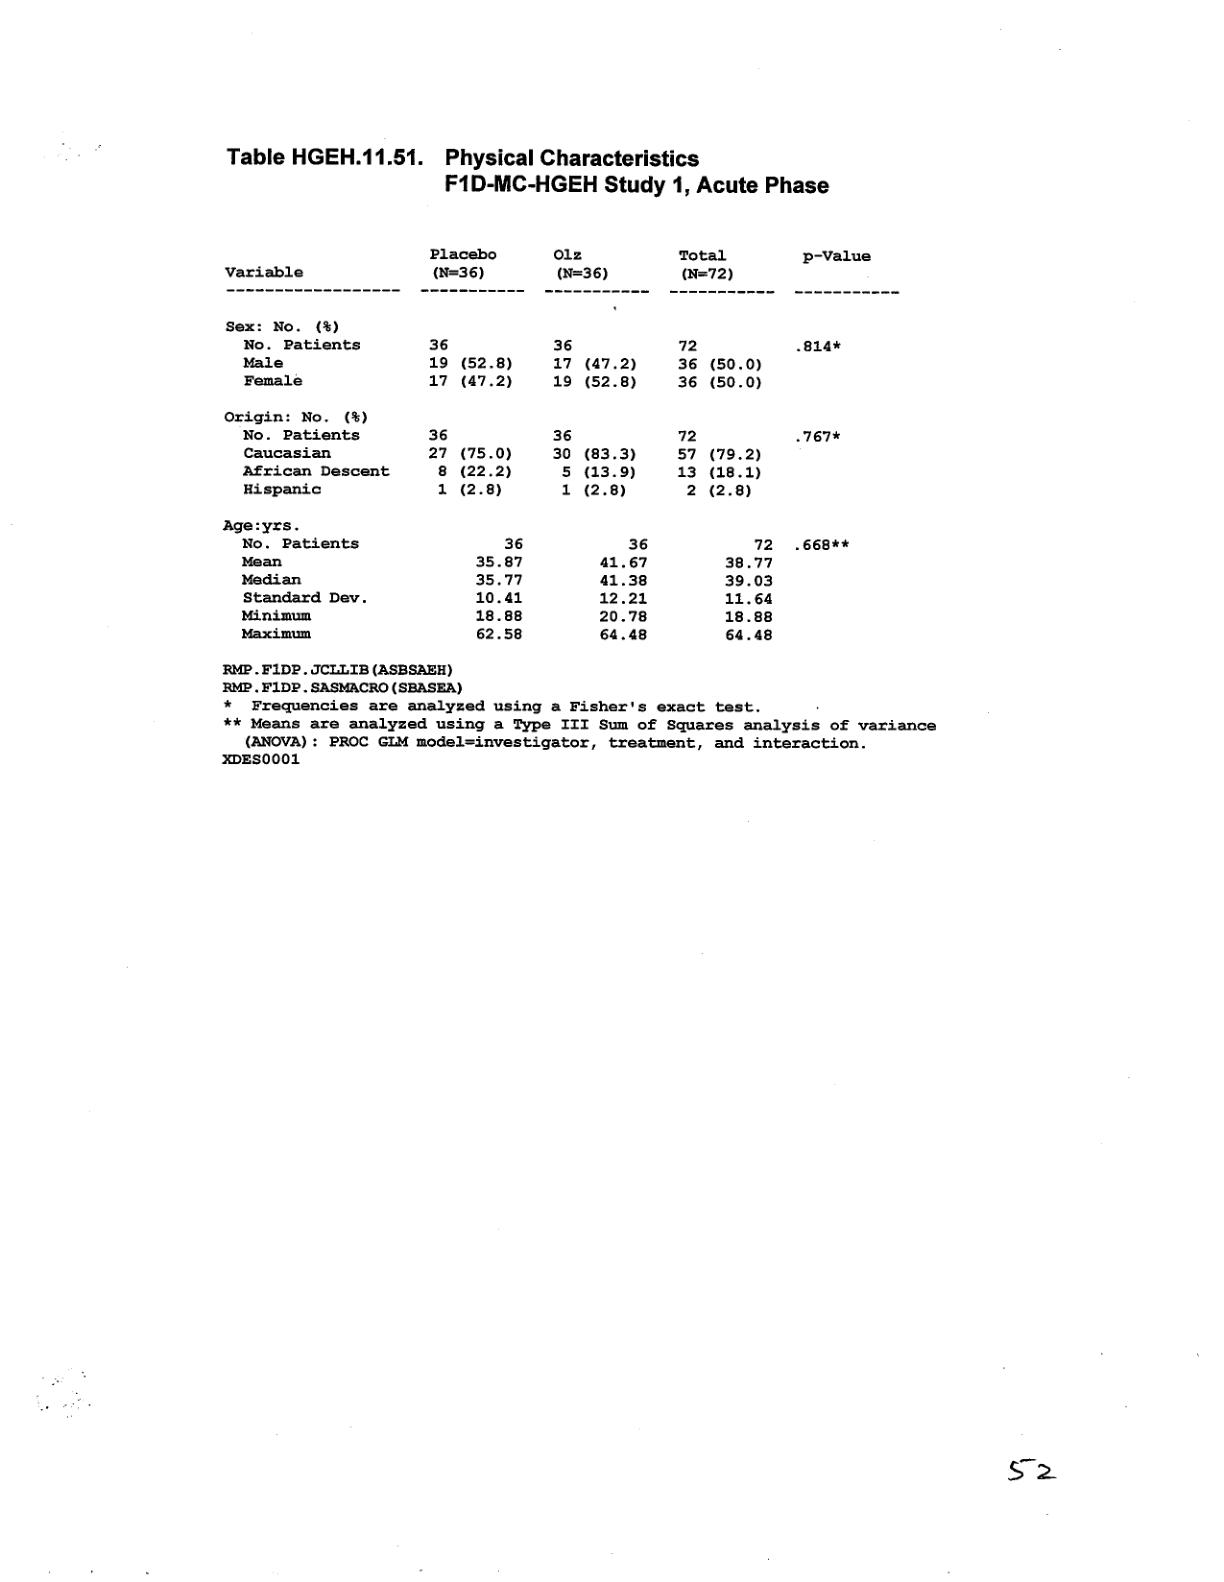nolines: (223, 240, 898, 645)
